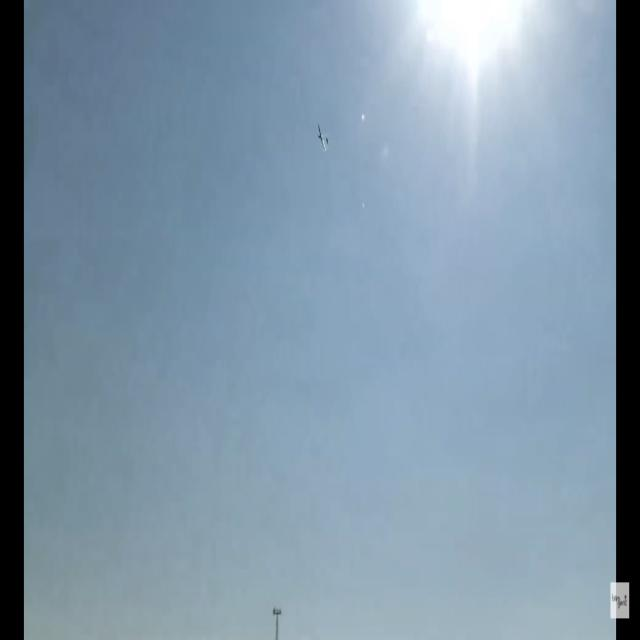iha: (320, 116, 327, 147)
